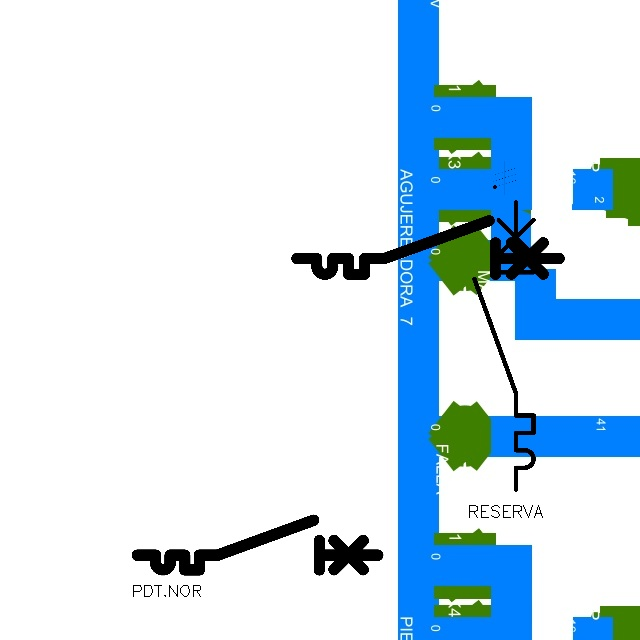interruptor_termomagnetico: (467, 195, 541, 497), (290, 214, 565, 281), (131, 514, 384, 576)
